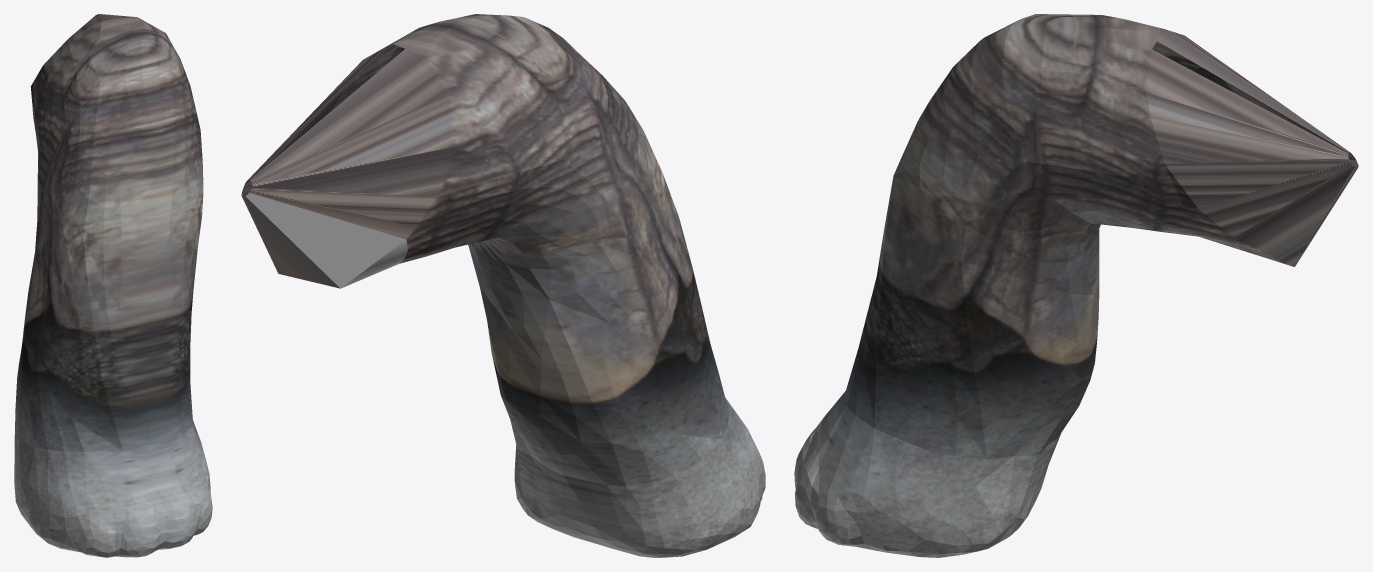
Rendered from Tortoise_LeftFrontleg_new1.dae.
3 views of the same model, side by side, from view 1: azimuth 30°, elevation 25°; view 2: azimuth 150°, elevation 25°; view 3: azimuth 270°, elevation 25° (orthographic). The views are drawn at different scales.
Visible parts, largest first — view 1: tortoise_003; view 2: tortoise_003; view 3: tortoise_003.
Boxes of the visible parts, box(x1,y1,x2,y2) form: tortoise_003: box(14, 14, 212, 557); tortoise_003: box(241, 14, 765, 557); tortoise_003: box(794, 14, 1358, 557).
Size of the model in its own units: 4.46 by 6.99 by 7.49.
Materials: 2 (1 with a texture image).
